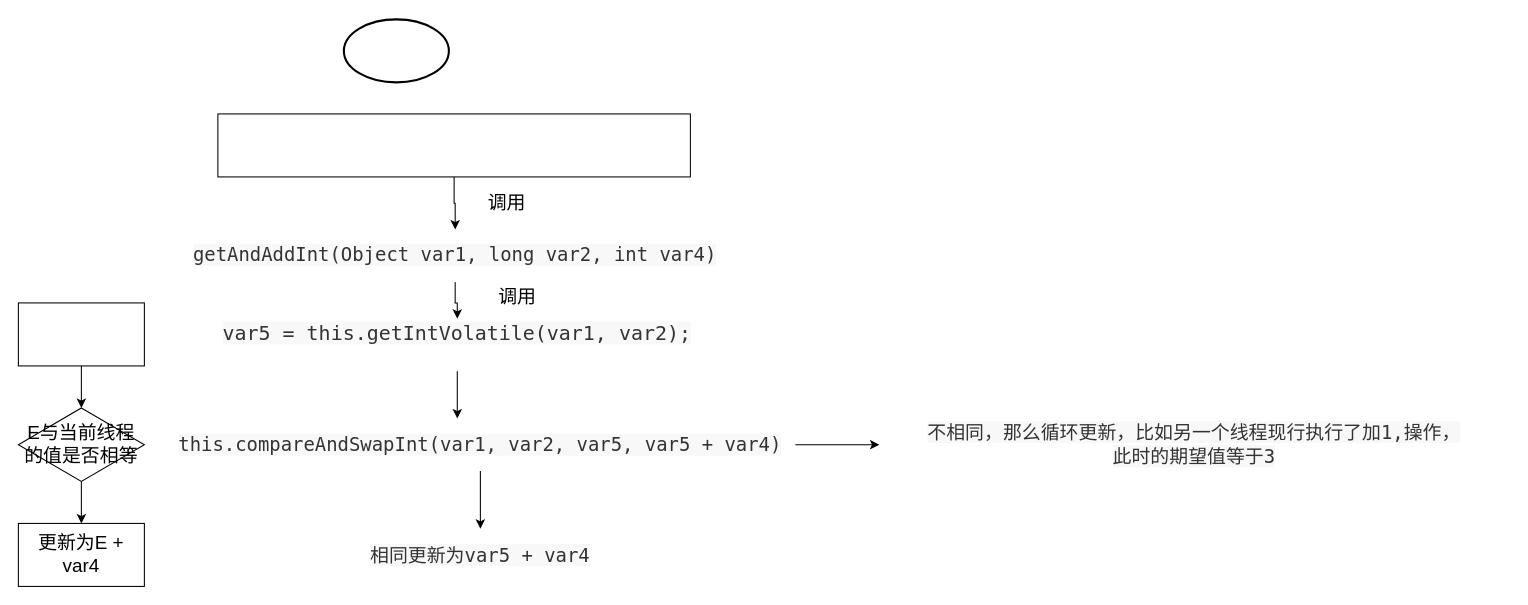
Some shapes in this 1528 by 605 pixel diagram are drawn without their labels. The centre of each missing label's shape, as x and y in pixels:
当前对象this，偏离的内存位置valueoffset ，要加的数量1: pixel 453 145
获取内存中的期望值E: pixel 80 334
